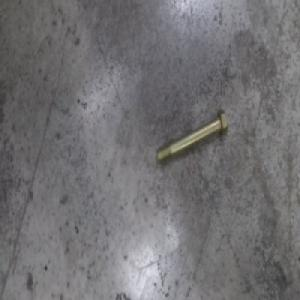Bolt: (155, 107, 228, 166)
